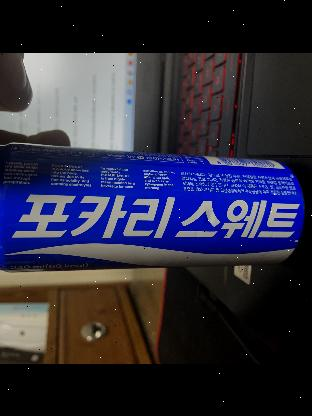Can: (0, 140, 301, 271)
